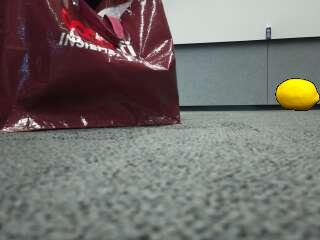lemon: (276, 80, 320, 111)
